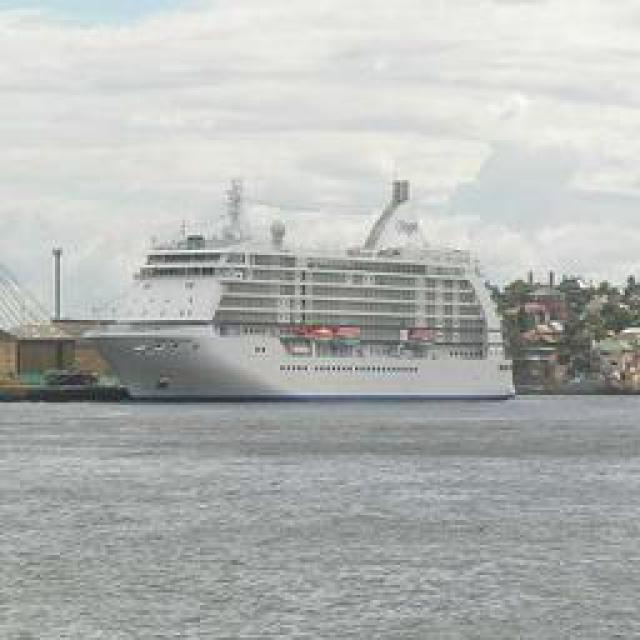Ship: (73, 188, 511, 403)
